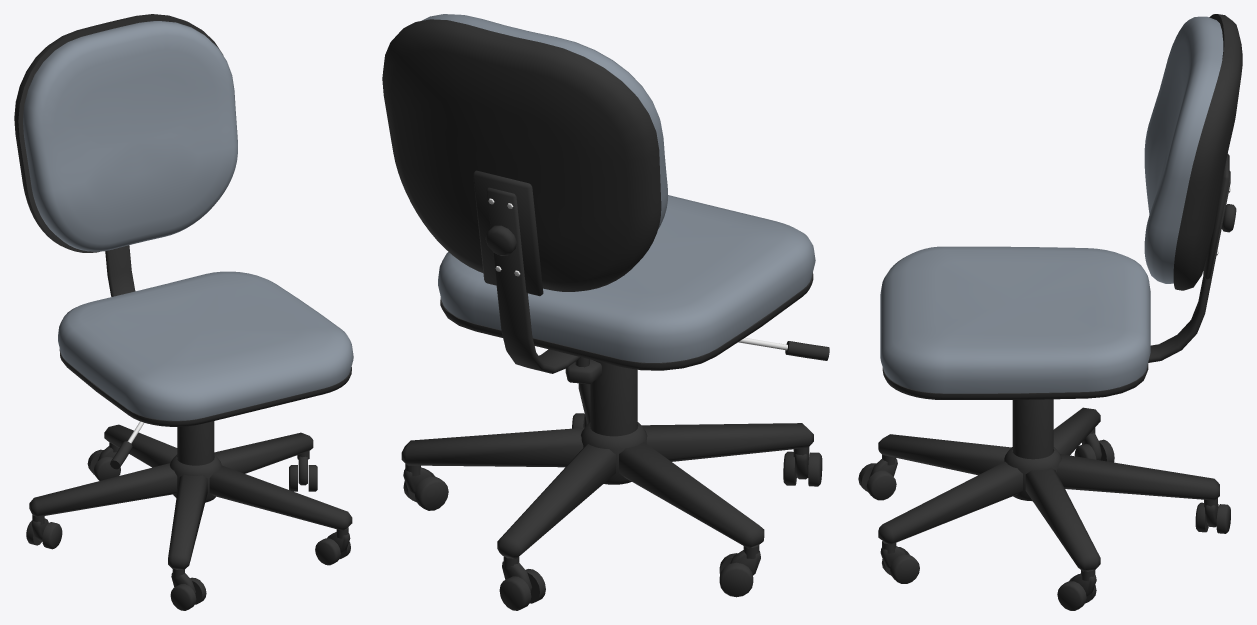
Rendered from Kit_TaskChair.fbx.
3 renders of one model, left to right at view 1: azimuth 30°, elevation 25°; view 2: azimuth 150°, elevation 25°; view 3: azimuth 270°, elevation 25°, orthographic. The views are drawn at different scales.
Visible parts, largest first — view 1: Kit_TaskChair_LOD0; view 2: Kit_TaskChair_LOD0; view 3: Kit_TaskChair_LOD0.
Part boxes in pixels (box(x1,y1,x2,y2)): Kit_TaskChair_LOD0: box(14, 14, 353, 610); Kit_TaskChair_LOD0: box(382, 14, 829, 610); Kit_TaskChair_LOD0: box(858, 14, 1242, 610).
Size of what is drawn, in the model's own units: 0.6171 by 0.9327 by 0.6544.
